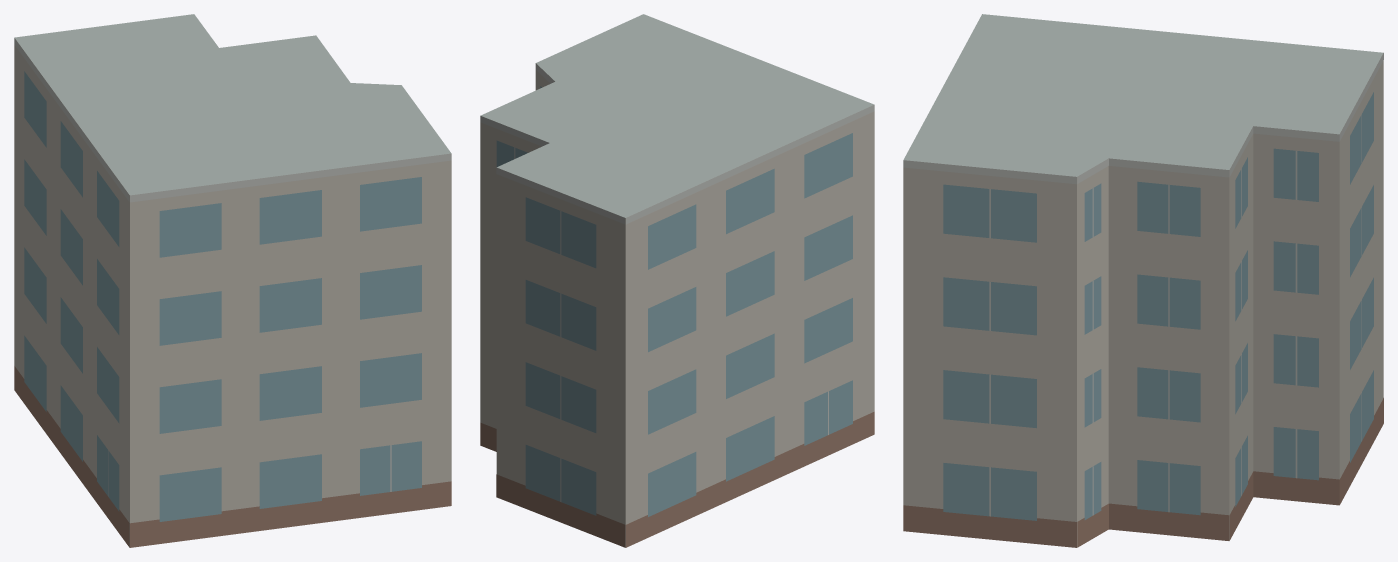
Rendered from residential-b95a8b2c-e01a-4ea9-a468-59c1a4ee2672.glb.
The picture shows the model from 3 angles, left to right: view 1: azimuth 30°, elevation 25°; view 2: azimuth 150°, elevation 25°; view 3: azimuth 270°, elevation 25°; orthographic projection. The views are drawn at different scales.
Parts seen in each view (by area): view 1: residential-b95a8b2c-e01a-4ea9-a468-59c1a4ee2672.tmp; view 2: residential-b95a8b2c-e01a-4ea9-a468-59c1a4ee2672.tmp; view 3: residential-b95a8b2c-e01a-4ea9-a468-59c1a4ee2672.tmp.
Boxes of the visible parts, x1,y1,x2,y2 form: residential-b95a8b2c-e01a-4ea9-a468-59c1a4ee2672.tmp: (14, 14, 451, 547); residential-b95a8b2c-e01a-4ea9-a468-59c1a4ee2672.tmp: (480, 14, 874, 547); residential-b95a8b2c-e01a-4ea9-a468-59c1a4ee2672.tmp: (903, 14, 1383, 547).
Size of the model in its own units: 11.5 by 12.2 by 14.33.
